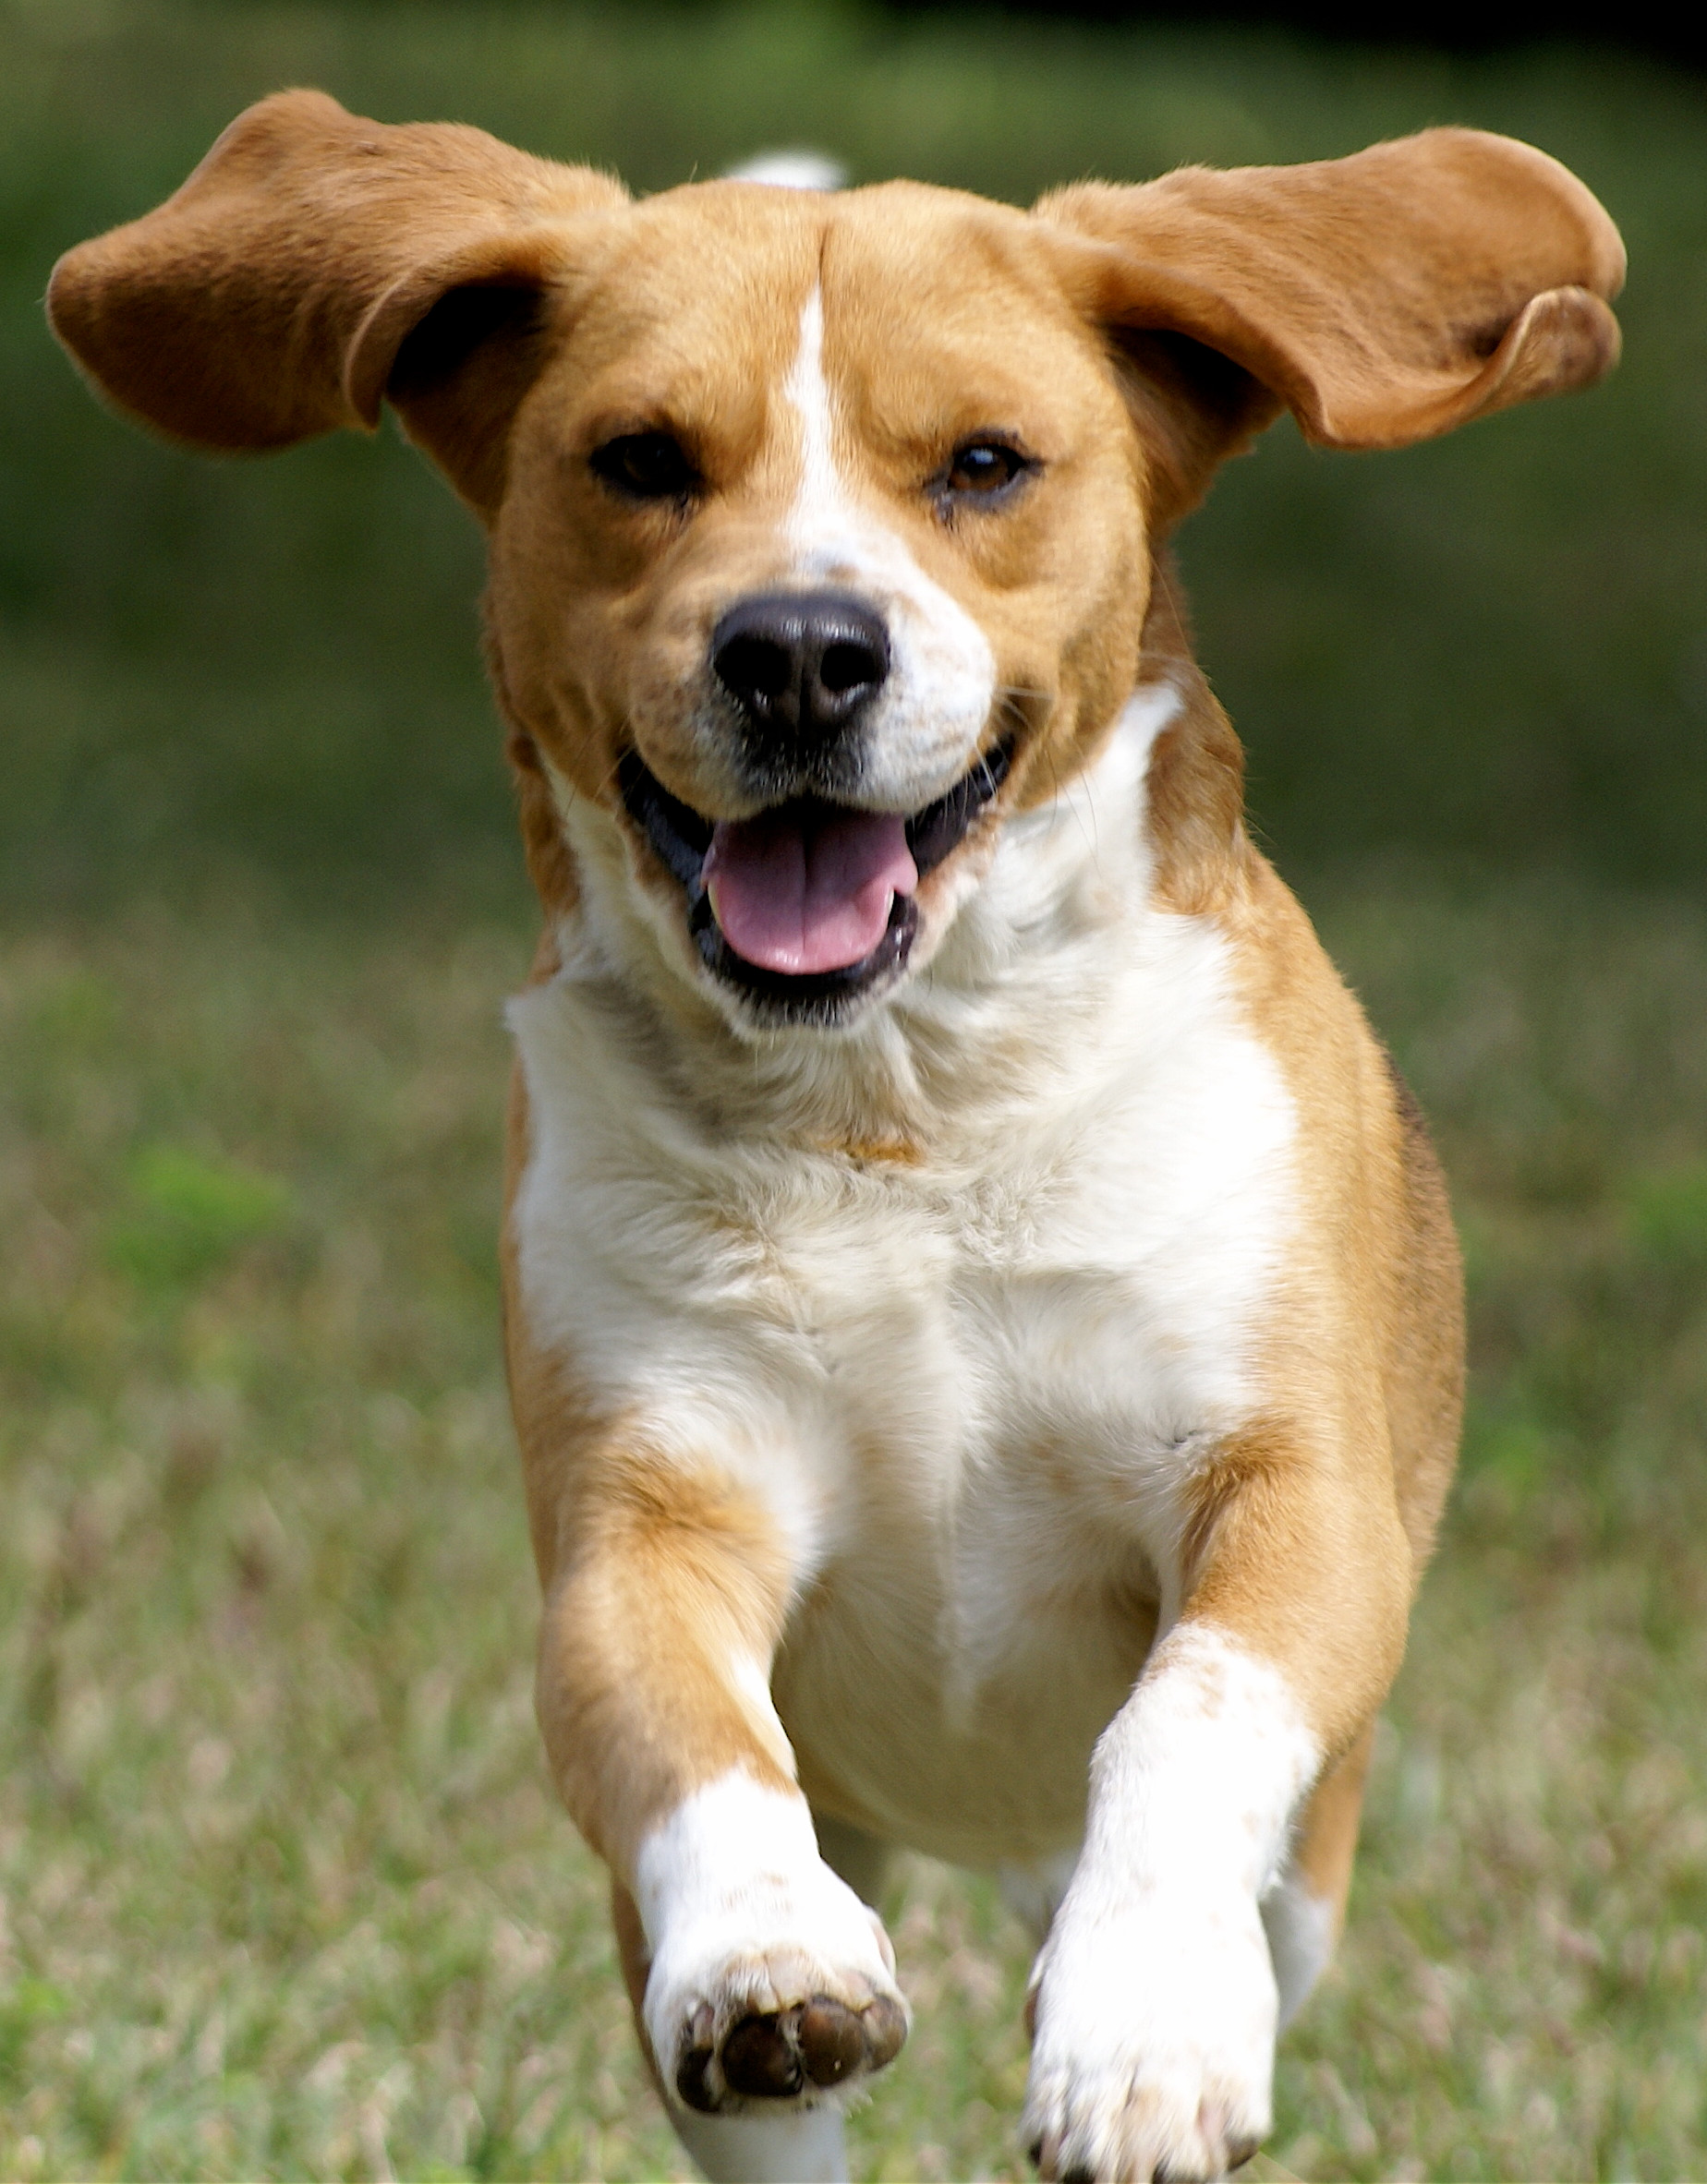dog: (0, 0, 1707, 2184)
